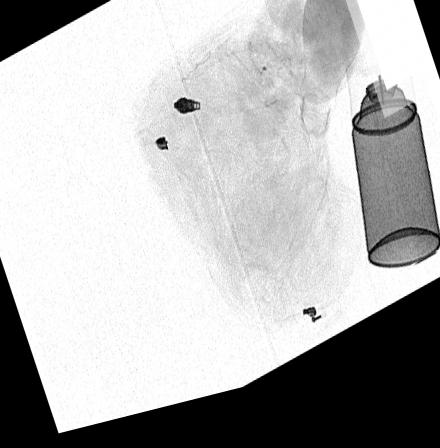Sprayer: (345, 73, 440, 289)
